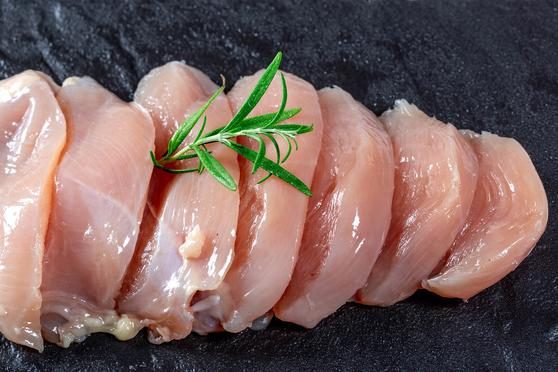chicken_fillet: (11, 57, 545, 328)
